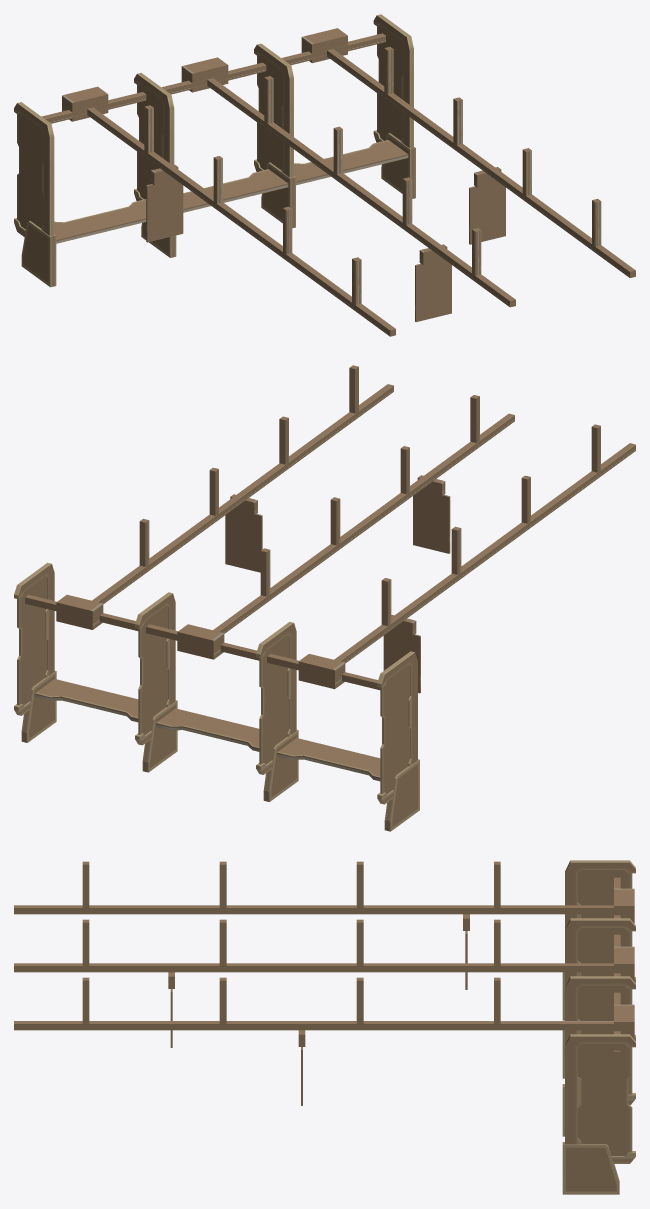
File: SM_Env_Parts_Shoot_00work.fbx
3 views of the same model, one above another, from view 1: azimuth 30°, elevation 25°; view 2: azimuth 150°, elevation 25°; view 3: azimuth 270°, elevation 25° (orthographic).
Visible parts, largest first — view 1: size01, size02, size04, pCube39 (×3), size03, pCube1, pCube3, pCube6, pCube7, pCube16, pCube18, pCube15 (+12 smaller); view 2: size02, size01, size03, size04, pCube39 (×3), pCube6, pCube3, pCube1, pCube7, pCube16, pCube18, pCube15; view 3: size01, pCube6, pCube3, pCube1, size02, size04, size03, pCube18, pCube16, pCube15.
Boxes of the visible parts, bbox=[...] form: size01: bbox=[294, 14, 415, 198]; size02: bbox=[183, 43, 295, 228]; size04: bbox=[14, 102, 56, 287]; pCube39 (×3): bbox=[146, 180, 505, 321]; size03: bbox=[54, 72, 176, 257]; pCube1: bbox=[327, 49, 635, 277]; pCube3: bbox=[207, 78, 515, 307]; pCube6: bbox=[87, 107, 395, 336]; pCube7: bbox=[41, 33, 385, 123]; pCube16: bbox=[181, 57, 228, 92]; pCube18: bbox=[62, 86, 108, 121]; pCube15: bbox=[301, 28, 347, 63]; size02: bbox=[135, 592, 259, 772]; size01: bbox=[14, 562, 138, 742]; size03: bbox=[256, 621, 380, 801]; size04: bbox=[377, 651, 419, 831]; pCube39 (×3): bbox=[225, 491, 450, 693]; pCube6: bbox=[334, 443, 635, 663]; pCube3: bbox=[213, 413, 514, 633]; pCube1: bbox=[92, 384, 393, 603]; pCube7: bbox=[25, 595, 380, 690]; pCube16: bbox=[177, 624, 224, 659]; pCube18: bbox=[298, 654, 345, 689]; pCube15: bbox=[56, 594, 103, 629]; size01: bbox=[562, 1034, 635, 1194]; pCube6: bbox=[14, 905, 613, 914]; pCube3: bbox=[14, 963, 613, 972]; pCube1: bbox=[14, 1021, 613, 1030]; size02: bbox=[562, 976, 635, 1136]; size04: bbox=[562, 860, 635, 1020]; size03: bbox=[562, 918, 635, 1078]; pCube18: bbox=[614, 888, 634, 923]; pCube16: bbox=[614, 946, 634, 981]; pCube15: bbox=[614, 1004, 634, 1039].
Size of the model in its own units: 610 by 907 by 300.
Materials: 1 (1 with a texture image).
